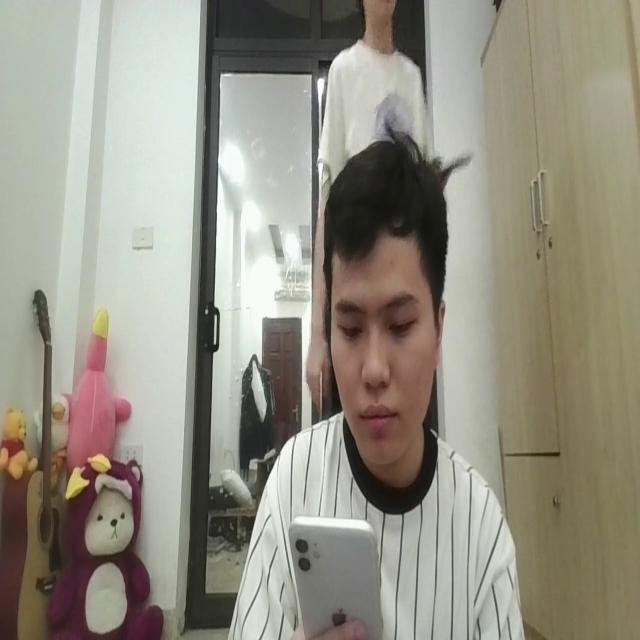extra_person: (321, 0, 435, 168)
phone: (285, 502, 387, 640)
student: (233, 132, 526, 640)
